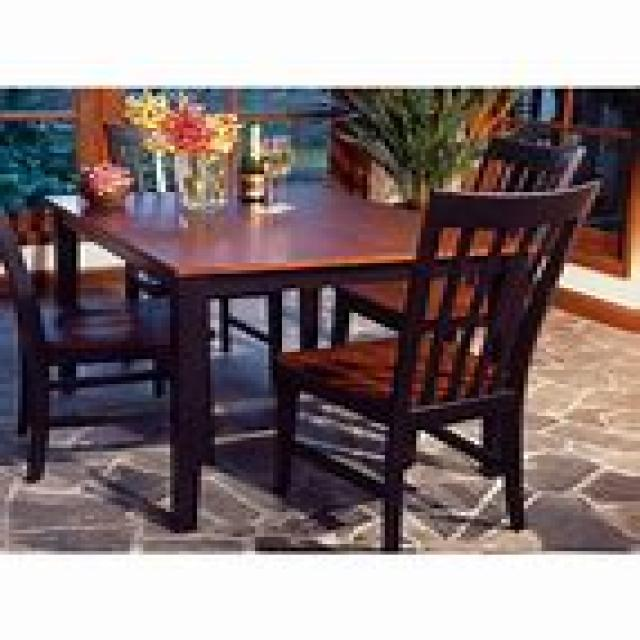chair: (268, 178, 600, 548), (0, 206, 215, 480)
table: (40, 174, 542, 530)
